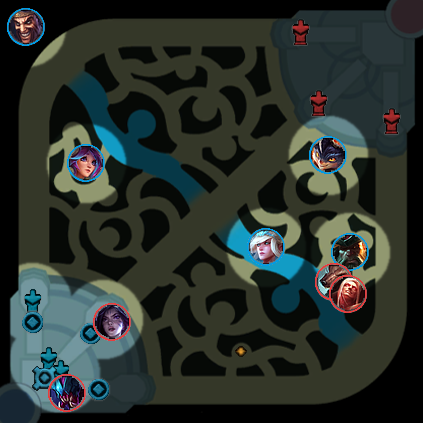Draven: (7, 8, 45, 46)
Gangplank: (331, 233, 369, 271)
Janna: (247, 228, 285, 266)
Kaisa: (93, 303, 131, 341)
Lillia: (67, 144, 105, 182)
RekSai: (48, 374, 86, 412)
Rumble: (309, 136, 347, 174)
Udyr: (315, 263, 353, 301)
Vladimir: (329, 275, 367, 313)
